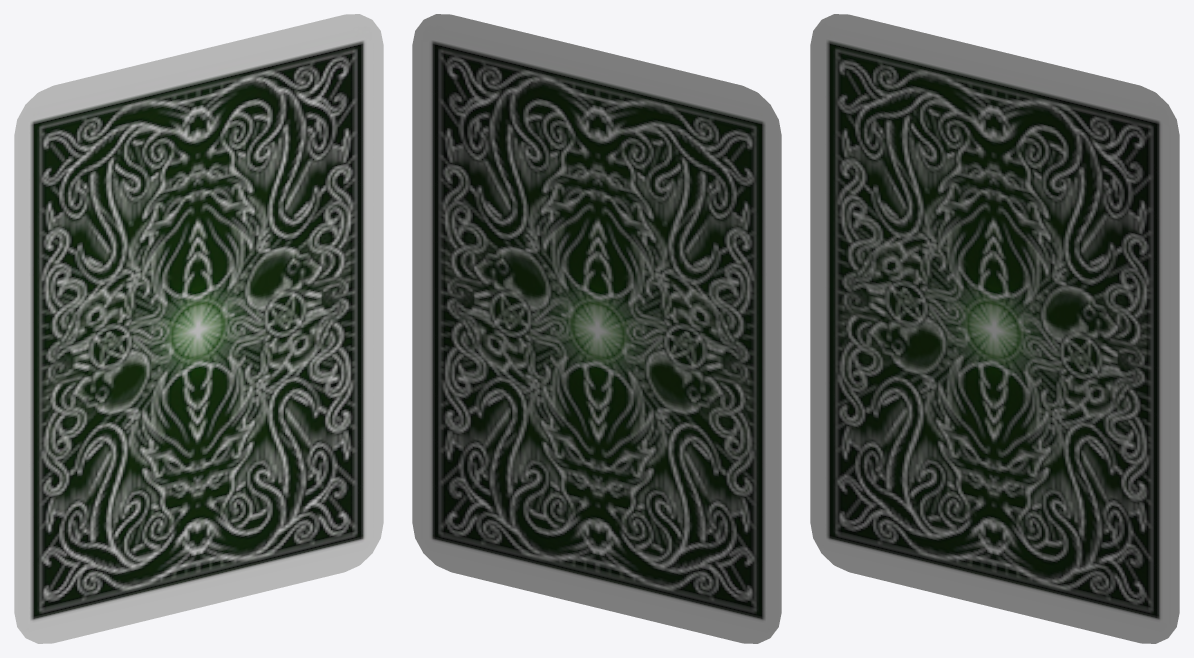
File: cardTest2.fbx
3 renders of one model, left to right at view 1: azimuth 30°, elevation 25°; view 2: azimuth 150°, elevation 25°; view 3: azimuth 330°, elevation 25°, orthographic.
Visible parts, largest first — view 1: Plane.002; view 2: Plane.002; view 3: Plane.002.
Boxes of the visible parts, x1,y1,x2,y2 form: Plane.002: [14, 14, 383, 643]; Plane.002: [412, 14, 781, 643]; Plane.002: [810, 14, 1179, 643].
Size of the model in its own units: 139 by 200 by 1.51e-05.
